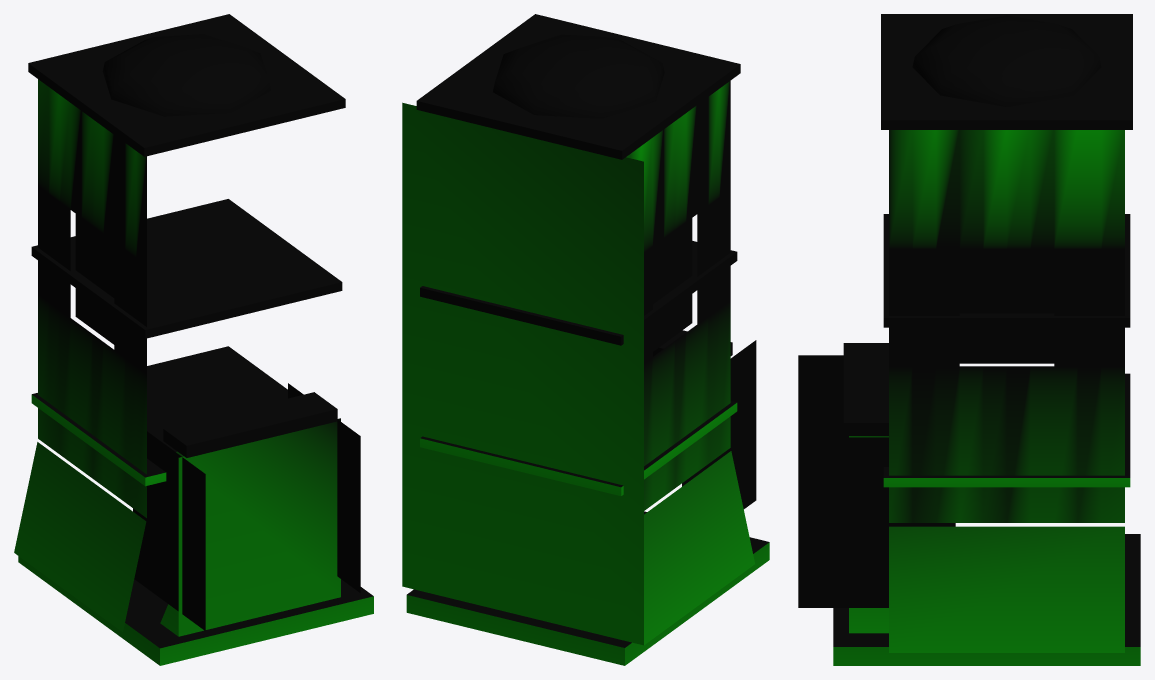
File: s_mediumpost.glb
The picture shows the model from 3 angles, left to right: view 1: azimuth 30°, elevation 25°; view 2: azimuth 150°, elevation 25°; view 3: azimuth 270°, elevation 25°; orthographic projection. The views are drawn at different scales.
Parts seen in each view (by area): view 1: lod0; view 2: lod0; view 3: lod0.
Boxes of the visible parts, <box> form: lod0: <box>14,14,373,665</box>; lod0: <box>402,14,769,665</box>; lod0: <box>798,14,1140,665</box>.
Size of what is drawn, in the model's own units: 5.65 by 12.1 by 6.53.
